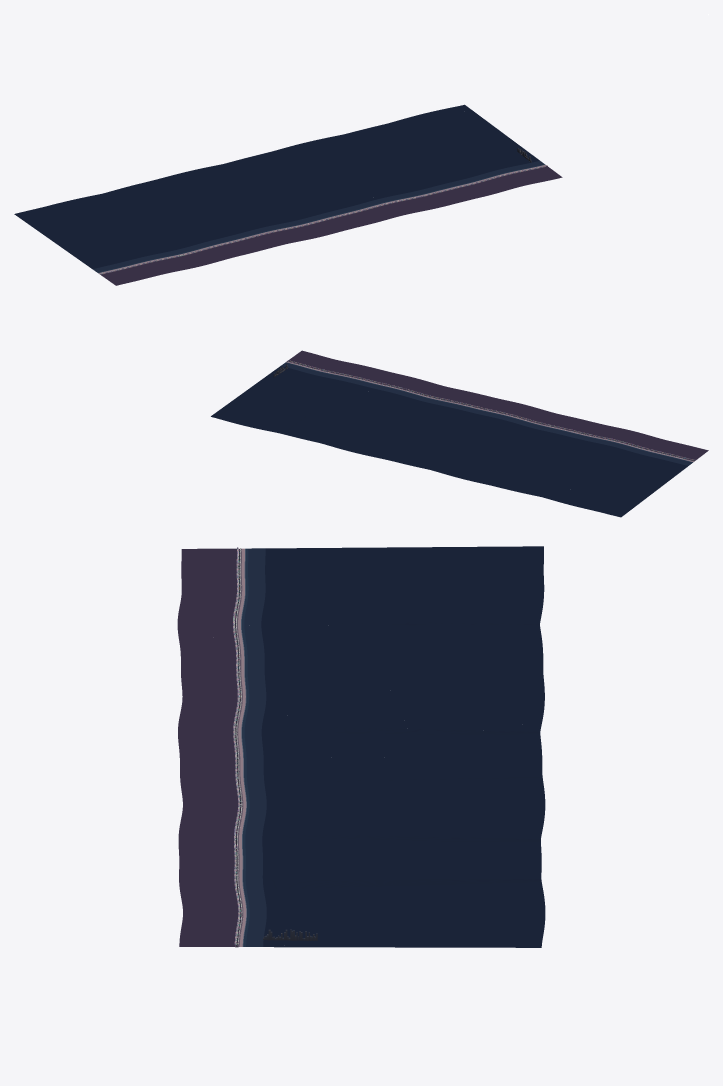
File: miami.glb
The picture shows the model from 3 angles, top to bottom: view 1: azimuth 30°, elevation 25°; view 2: azimuth 150°, elevation 25°; view 3: azimuth 270°, elevation 25°; orthographic projection. The views are drawn at different scales.
Visible parts, largest first — view 1: AtlanticSurf_023, AtlanticSurf_033, AtlanticSurf_013, AtlanticSurf_032, AtlanticSurf_004, AtlanticSurf_014, AtlanticSurf_009, AtlanticSurf_022, AtlanticSurf_003, AtlanticSurf_000, AtlanticSurf_018, AtlanticSurf_028 (+33 smaller); view 2: AtlanticSurf_023, AtlanticSurf_013, AtlanticSurf_033, AtlanticSurf_032, AtlanticSurf_004, AtlanticSurf_014, AtlanticSurf_009, AtlanticSurf_022, AtlanticSurf_003, AtlanticSurf_000, AtlanticSurf_018, AtlanticSurf_028 (+33 smaller); view 3: AtlanticSurf_023, AtlanticSurf_033, AtlanticSurf_032, AtlanticSurf_013, AtlanticSurf_004, AtlanticSurf_014, AtlanticSurf_022, AtlanticSurf_009, AtlanticSurf_003, AtlanticSurf_000, AtlanticSurf_018, AtlanticSurf_028 (+33 smaller).
Part boxes in pixels (x1=…): AtlanticSurf_023: x1=298, y1=139, x2=394, y2=203; AtlanticSurf_033: x1=424, y1=108, x2=518, y2=173; AtlanticSurf_013: x1=174, y1=169, x2=270, y2=233; AtlanticSurf_032: x1=402, y1=113, x2=505, y2=176; AtlanticSurf_004: x1=69, y1=196, x2=160, y2=260; AtlanticSurf_014: x1=196, y1=165, x2=283, y2=230; AtlanticSurf_009: x1=122, y1=183, x2=221, y2=246; AtlanticSurf_022: x1=280, y1=144, x2=381, y2=206; AtlanticSurf_003: x1=51, y1=201, x2=147, y2=264; AtlanticSurf_000: x1=14, y1=210, x2=110, y2=273; AtlanticSurf_018: x1=234, y1=157, x2=333, y2=219; AtlanticSurf_028: x1=362, y1=126, x2=457, y2=189; AtlanticSurf_023: x1=340, y1=396, x2=432, y2=453; AtlanticSurf_013: x1=455, y1=423, x2=546, y2=481; AtlanticSurf_033: x1=227, y1=368, x2=319, y2=425; AtlanticSurf_032: x1=246, y1=371, x2=331, y2=430; AtlanticSurf_004: x1=553, y1=448, x2=647, y2=505; AtlanticSurf_014: x1=439, y1=420, x2=534, y2=476; AtlanticSurf_009: x1=507, y1=434, x2=591, y2=493; AtlanticSurf_022: x1=361, y1=399, x2=444, y2=457; AtlanticSurf_003: x1=571, y1=451, x2=658, y2=508; AtlanticSurf_000: x1=605, y1=459, x2=693, y2=517; AtlanticSurf_018: x1=407, y1=409, x2=490, y2=467; AtlanticSurf_028: x1=291, y1=381, x2=377, y2=439; AtlanticSurf_023: x1=245, y1=799, x2=545, y2=820; AtlanticSurf_033: x1=245, y1=911, x2=545, y2=931; AtlanticSurf_032: x1=245, y1=892, x2=545, y2=912; AtlanticSurf_013: x1=245, y1=689, x2=544, y2=708; AtlanticSurf_004: x1=243, y1=593, x2=543, y2=613; AtlanticSurf_014: x1=243, y1=703, x2=544, y2=725; AtlanticSurf_022: x1=245, y1=783, x2=545, y2=801; AtlanticSurf_009: x1=243, y1=642, x2=543, y2=658; AtlanticSurf_003: x1=245, y1=579, x2=544, y2=595; AtlanticSurf_000: x1=245, y1=546, x2=543, y2=561; AtlanticSurf_018: x1=242, y1=741, x2=542, y2=757; AtlanticSurf_028: x1=242, y1=855, x2=541, y2=869.
Size of the model in its own units: 13181 by 843 by 3380.
